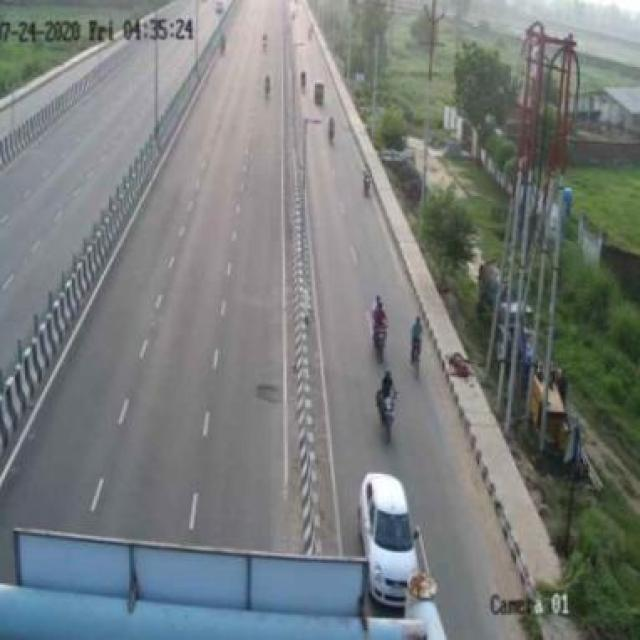car: (350, 451, 427, 608)
